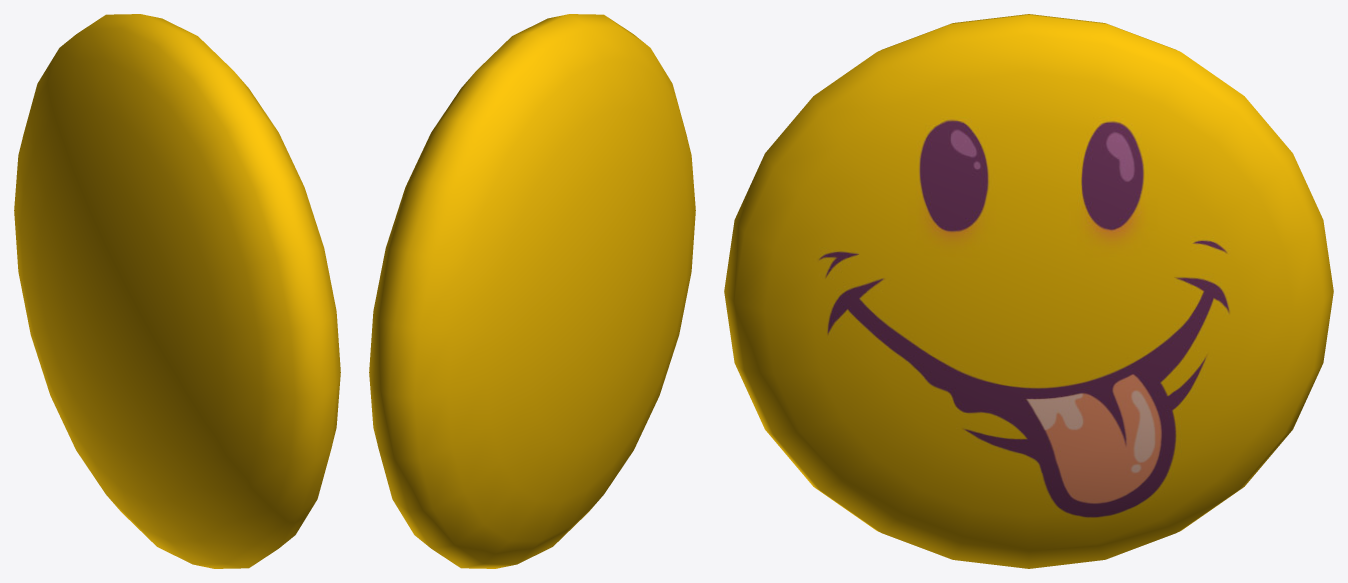
Rendered from smile5.DAE.
3 renders of one model, left to right at view 1: azimuth 30°, elevation 25°; view 2: azimuth 150°, elevation 25°; view 3: azimuth 270°, elevation 25°, orthographic. The views are drawn at different scales.
Visible parts, largest first — view 1: Sphere01_PIVOT; view 2: Sphere01_PIVOT; view 3: Sphere01_PIVOT.
Boxes of the visible parts, left/top/right/bottom form: Sphere01_PIVOT: left=14, top=14, right=340, bottom=568; Sphere01_PIVOT: left=369, top=14, right=695, bottom=568; Sphere01_PIVOT: left=724, top=14, right=1333, bottom=568.
Size of the model in its own units: 55.57 by 174 by 174.
Materials: 1 (1 with a texture image).
